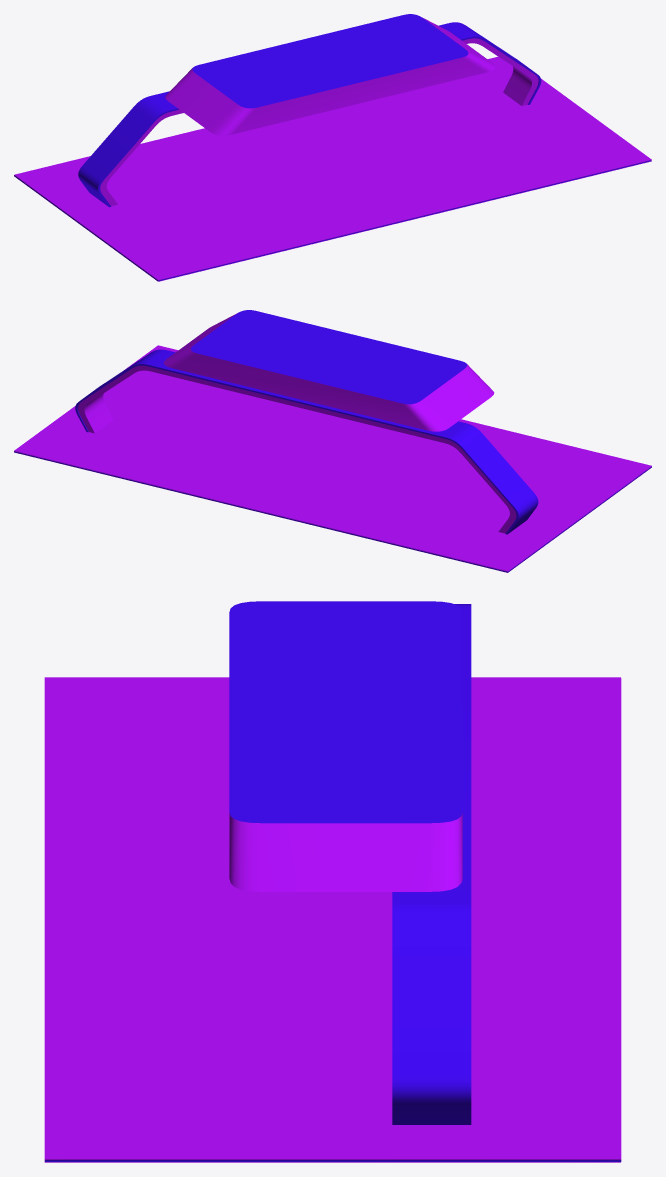
File: Exhibition_B.FBX
3 renders of one model, top to bottom at view 1: azimuth 30°, elevation 25°; view 2: azimuth 150°, elevation 25°; view 3: azimuth 270°, elevation 25°, orthographic. The views are drawn at different scales.
Visible parts, largest first — view 1: Exhibition_B, Exhibition_B_3, Exhibition_B_2; view 2: Exhibition_B, Exhibition_B_3, Exhibition_B_2; view 3: Exhibition_B, Exhibition_B_3, Exhibition_B_2.
Part boxes in pixels (left/top/right/bottom): Exhibition_B: left=14, top=56, right=651, bottom=281; Exhibition_B_3: left=165, top=14, right=495, bottom=135; Exhibition_B_2: left=78, top=22, right=541, bottom=207; Exhibition_B: left=14, top=345, right=651, bottom=572; Exhibition_B_3: left=163, top=310, right=494, bottom=431; Exhibition_B_2: left=75, top=349, right=538, bottom=534; Exhibition_B: left=44, top=677, right=621, bottom=1162; Exhibition_B_3: left=229, top=601, right=462, bottom=891; Exhibition_B_2: left=392, top=604, right=471, bottom=1124.
Size of the model in its own units: 2736 by 1384 by 556.
